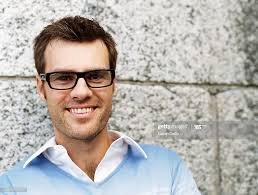Glasses: (34, 68, 118, 95)
